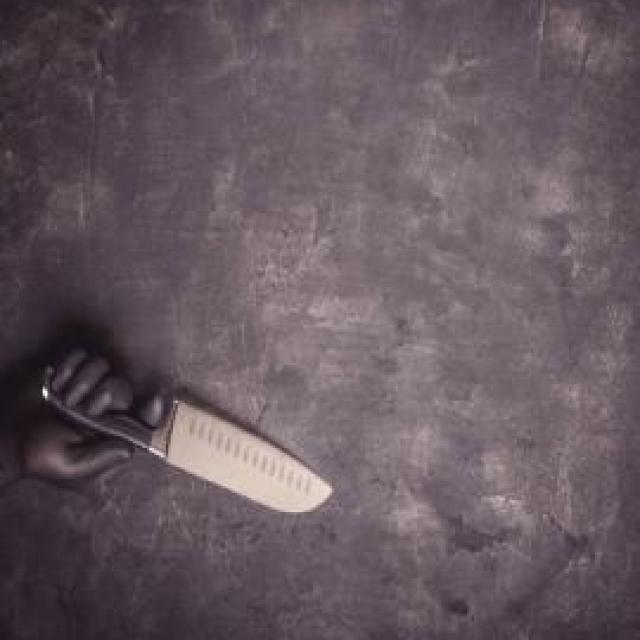knife: (27, 345, 332, 517)
